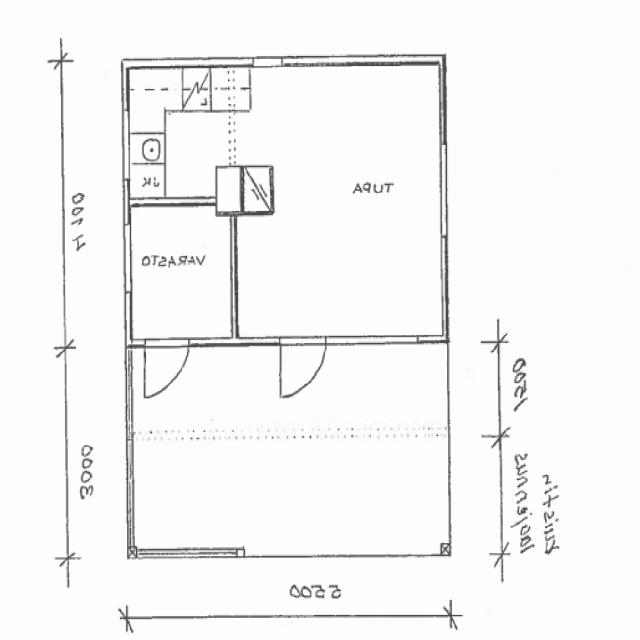door: (281, 336, 325, 399), (145, 336, 189, 397)
